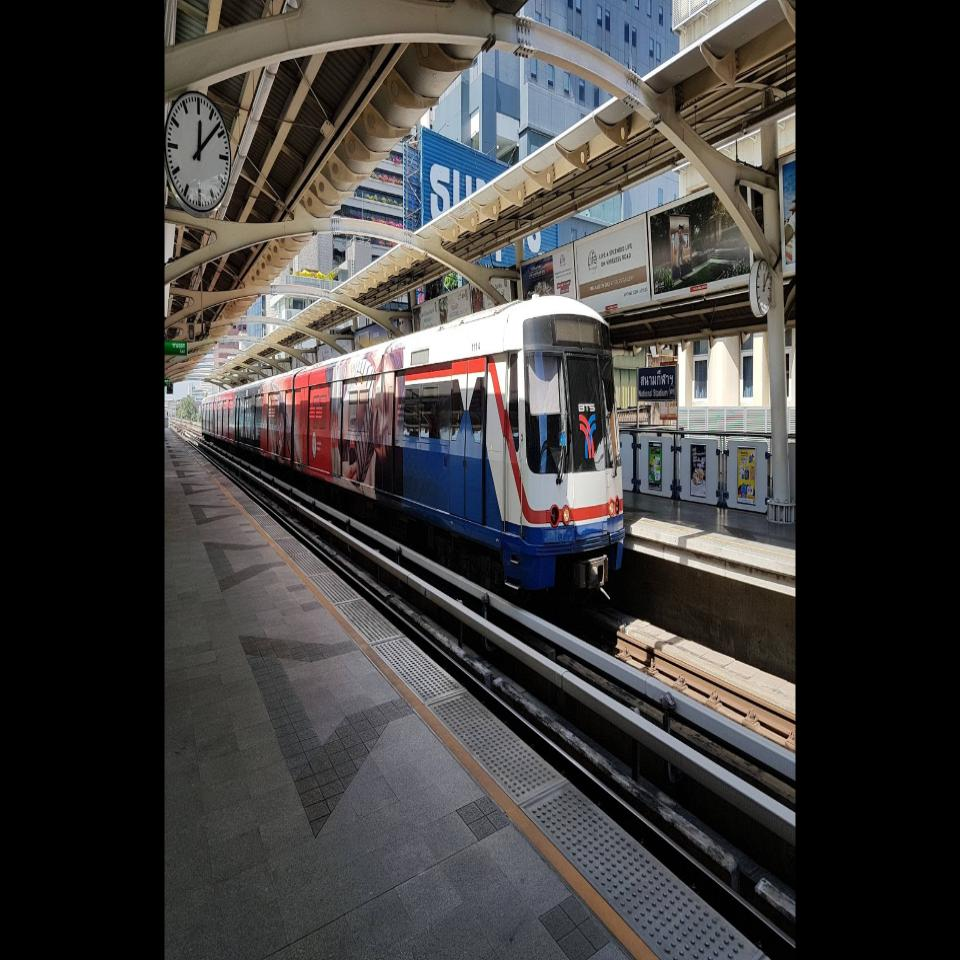signage: (637, 364, 677, 403)
